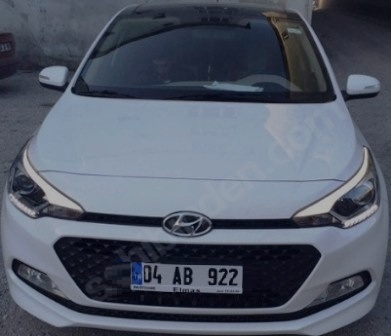plaka: (139, 262, 242, 288)
